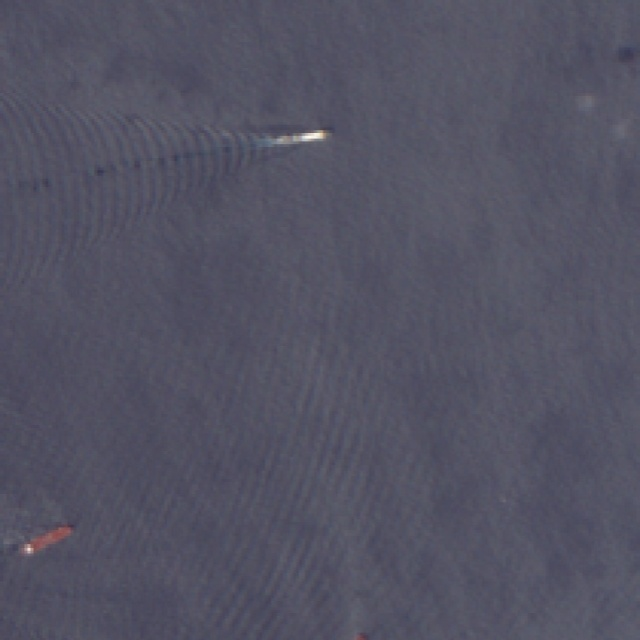wake: (26, 69, 344, 236)
